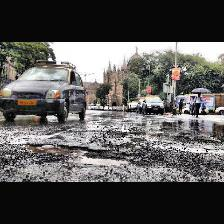pothole: (24, 142, 94, 155), (78, 154, 132, 166)
